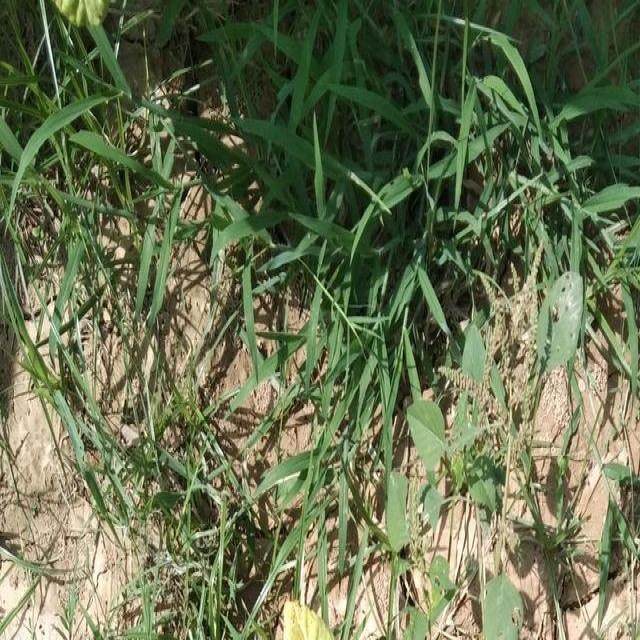weed: (251, 25, 640, 212), (18, 39, 228, 315), (122, 396, 270, 634), (402, 342, 518, 633), (308, 270, 390, 605)
